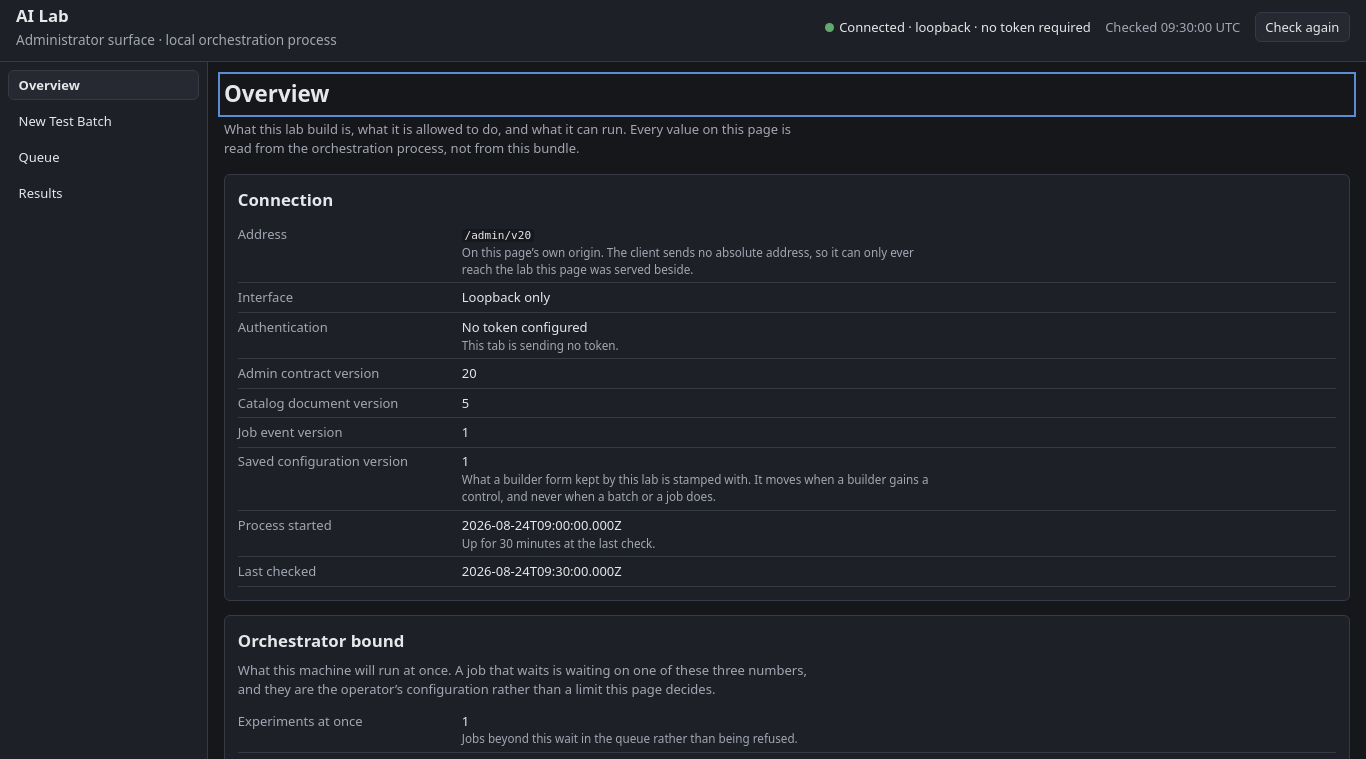
Test: the content the form offers › selects every playable precon by default, and can select all or clear
expect the heading "Overview" is shown: met, box [224, 78, 330, 109]
Click the button "New Test Batch". click: (104, 121)
box: [8, 106, 199, 136]
(page scrolled)
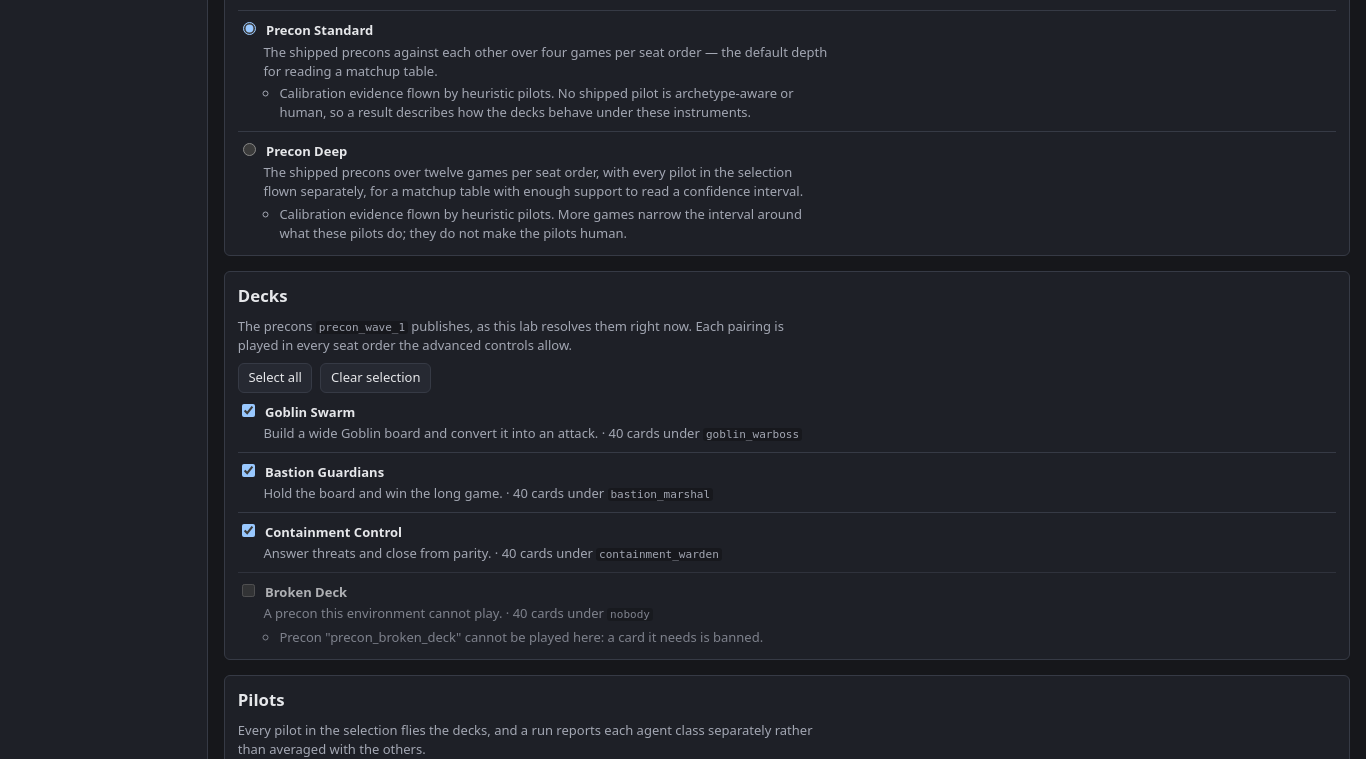
expect the checkbox labelled "Goblin Swarm" is checked: met, box [242, 404, 255, 417]
Click the button "Clear selection". click: (376, 378)
box: [320, 363, 431, 393]
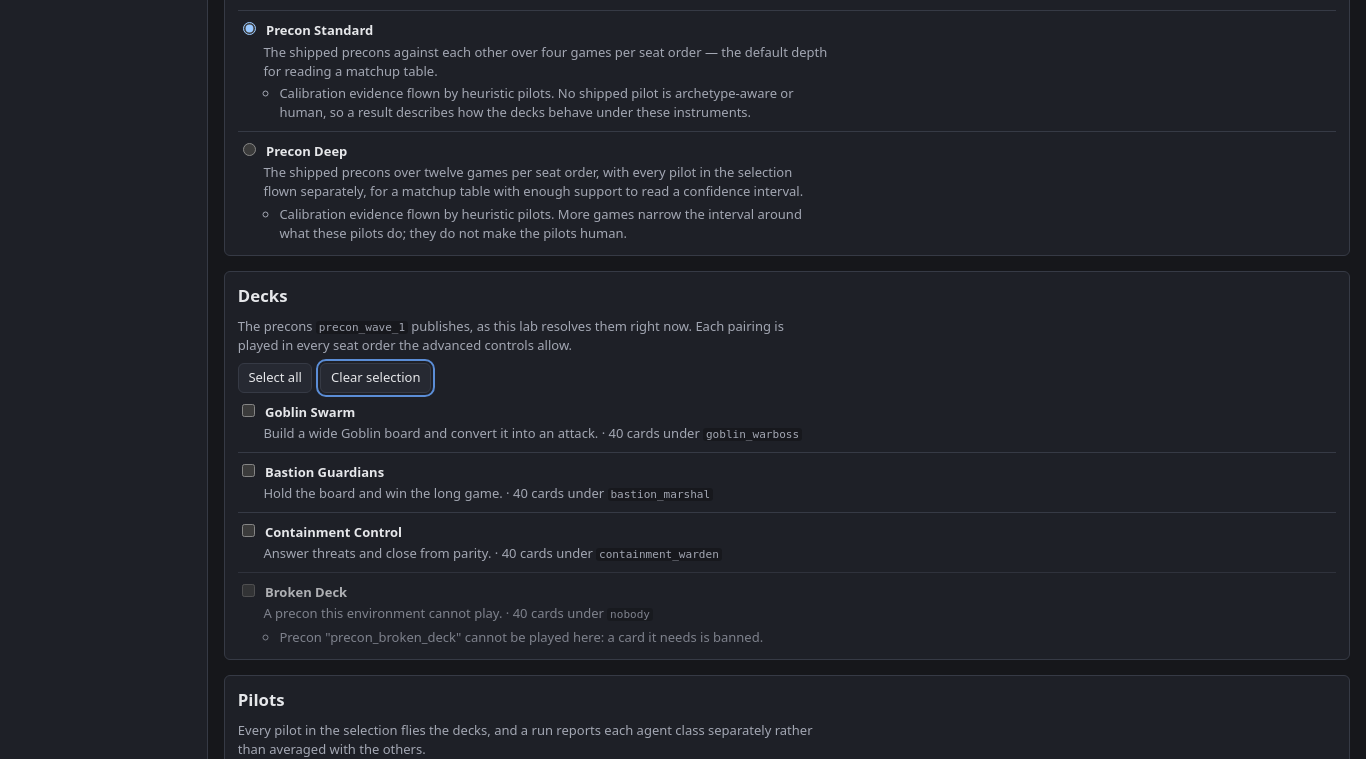
expect the checkbox labelled "Goblin Swarm" is not checked: met, box [242, 404, 255, 417]
Click the button "Select all". click: (275, 378)
box: [238, 363, 312, 393]
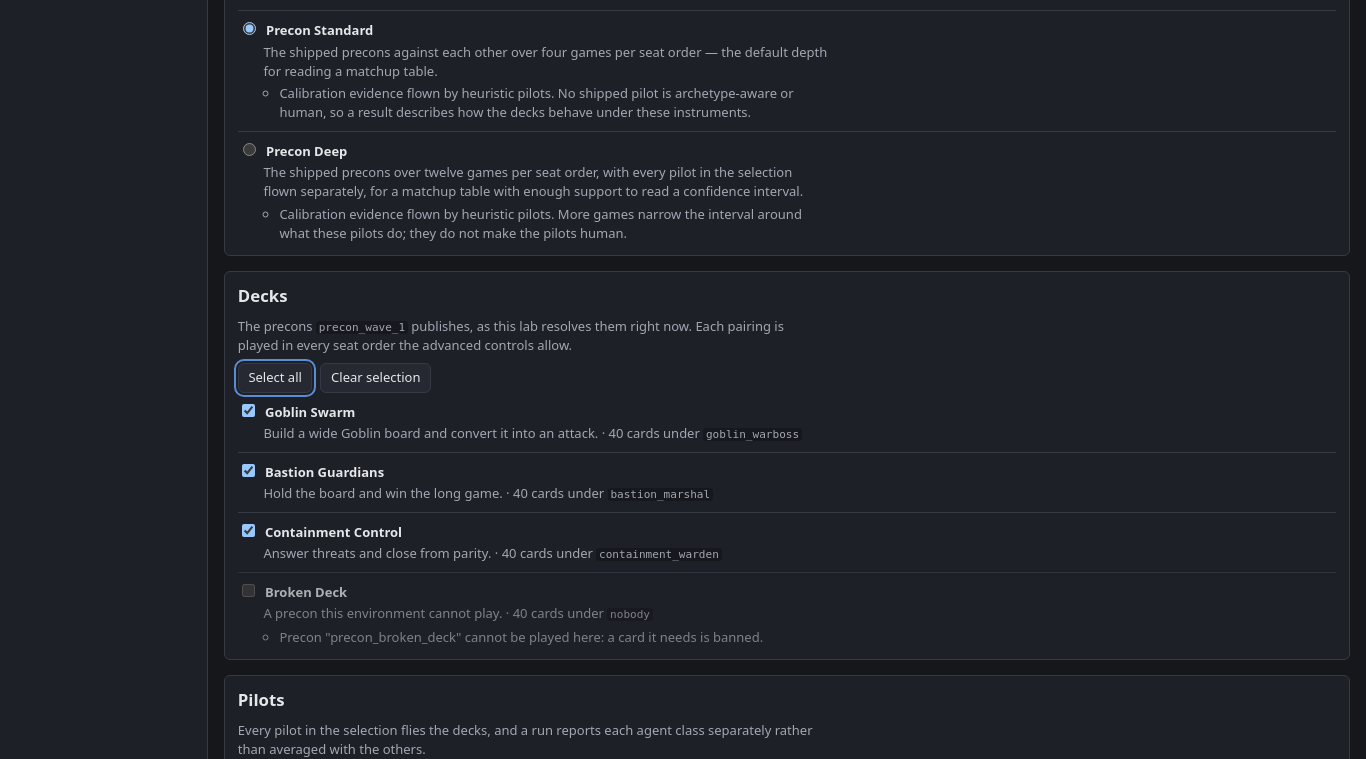
expect the checkbox labelled "Broken Deck" is not checked: met, box [242, 584, 255, 597]
expect the checkbox labelled "Goblin Swarm" is checked: met, box [242, 404, 255, 417]
